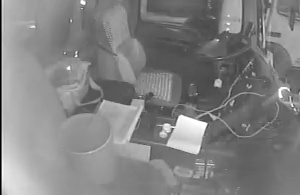paper: (166, 112, 209, 158)
